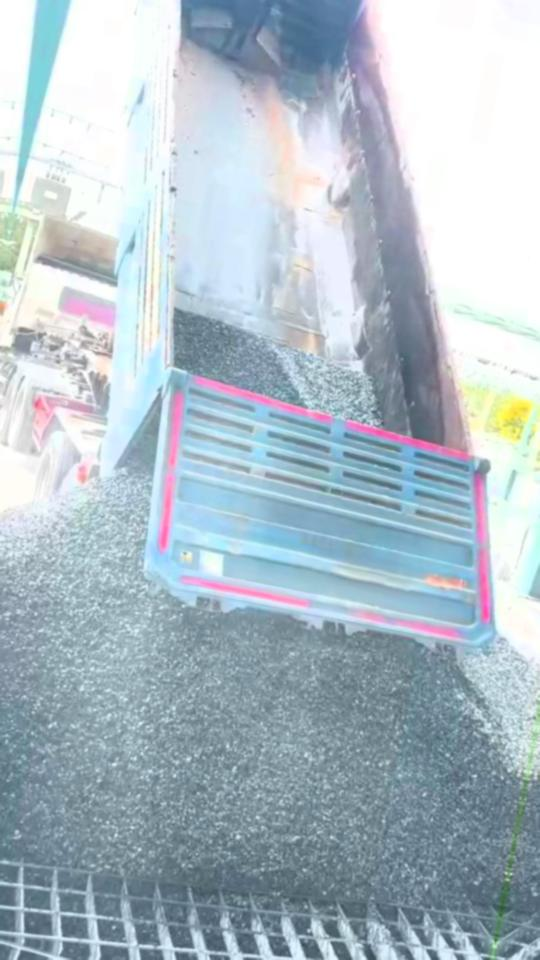gravel: (0, 446, 520, 906), (175, 310, 390, 427), (458, 635, 540, 776)
